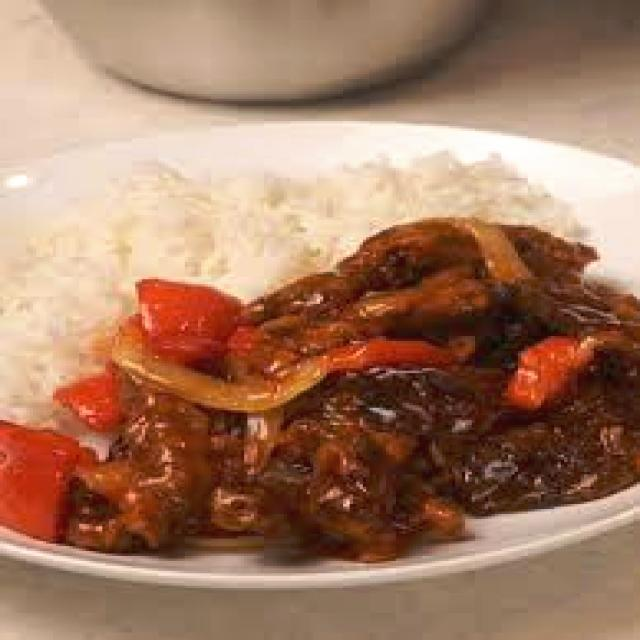Beijing Beef: (44, 219, 637, 563)
rice: (10, 205, 340, 264), (330, 171, 511, 209), (13, 268, 122, 326)
